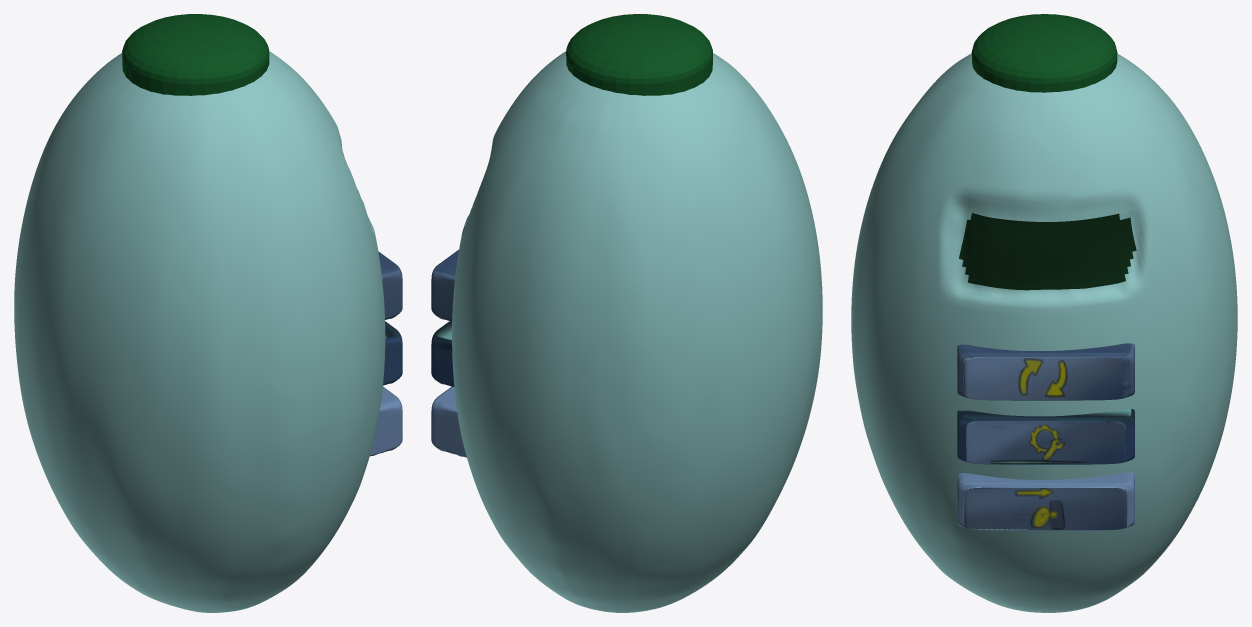
File: Robot2.fbx
The picture shows the model from 3 angles, left to right: view 1: azimuth 30°, elevation 25°; view 2: azimuth 150°, elevation 25°; view 3: azimuth 270°, elevation 25°; orthographic projection.
Parts seen in each view (by area): view 1: Sphere, Cylinder, Cube.002, Cube, Cube.001; view 2: Sphere, Cylinder, Cube.002, Cube, Cube.001; view 3: Sphere, Cube.002, Cylinder, Cube, Cube.001.
Boxes of the visible parts, bbox=[...] form: Sphere: bbox=[14, 51, 385, 612]; Cylinder: bbox=[122, 14, 269, 95]; Cube.002: bbox=[370, 386, 402, 456]; Cube: bbox=[378, 251, 402, 319]; Cube.001: bbox=[383, 321, 402, 385]; Sphere: bbox=[452, 51, 822, 612]; Cylinder: bbox=[566, 14, 712, 95]; Cube.002: bbox=[431, 386, 466, 457]; Cube: bbox=[431, 250, 458, 321]; Cube.001: bbox=[431, 321, 454, 386]; Sphere: bbox=[851, 53, 1237, 612]; Cube.002: bbox=[957, 472, 1134, 530]; Cylinder: bbox=[971, 14, 1117, 92]; Cube: bbox=[957, 343, 1134, 400]; Cube.001: bbox=[957, 408, 1134, 464].
Size of the model in its own units: 188 by 319 by 197.
